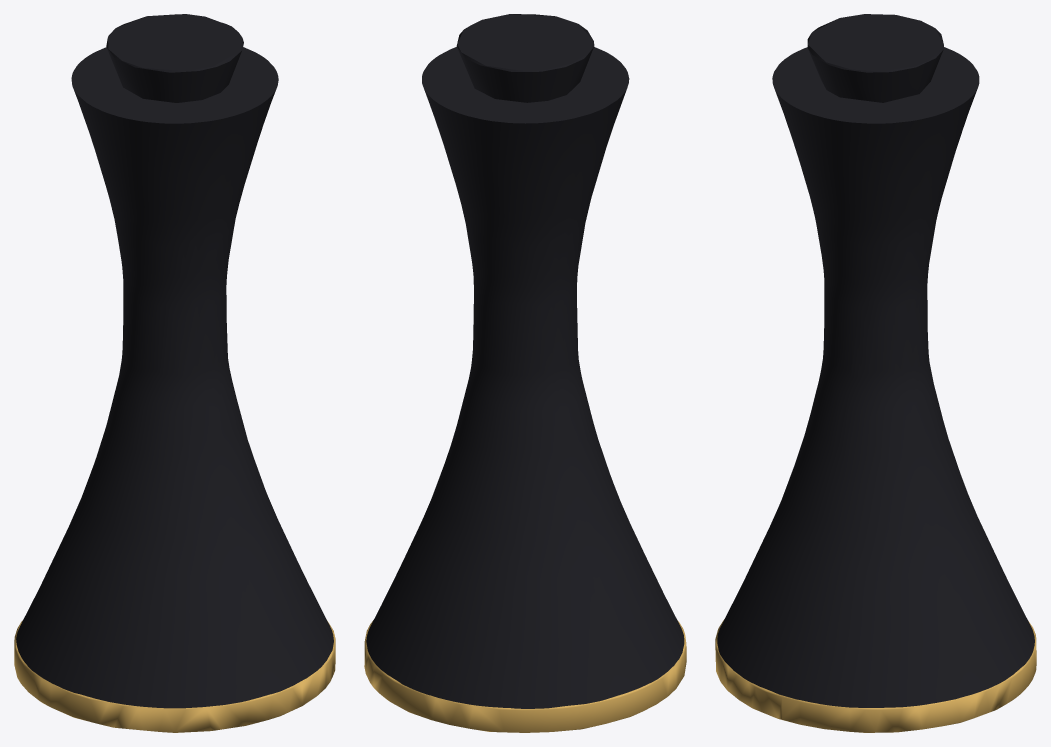
File: 05_dama_cerna.glb
3 renders of one model, left to right at view 1: azimuth 30°, elevation 25°; view 2: azimuth 150°, elevation 25°; view 3: azimuth 270°, elevation 25°, orthographic.
Parts seen in each view (by area): view 1: 05_dama_telo_0, 05_dama_telo_1, 05_dama_podstavec; view 2: 05_dama_telo_0, 05_dama_telo_1, 05_dama_podstavec; view 3: 05_dama_telo_0, 05_dama_telo_1, 05_dama_podstavec.
Part boxes in pixels (bbox=[...]): 05_dama_telo_0: bbox=[16, 47, 333, 708]; 05_dama_telo_1: bbox=[106, 14, 243, 102]; 05_dama_podstavec: bbox=[14, 620, 335, 732]; 05_dama_telo_0: bbox=[366, 47, 684, 708]; 05_dama_telo_1: bbox=[456, 14, 594, 102]; 05_dama_podstavec: bbox=[364, 620, 686, 732]; 05_dama_telo_0: bbox=[717, 47, 1034, 707]; 05_dama_telo_1: bbox=[807, 14, 943, 102]; 05_dama_podstavec: bbox=[715, 619, 1036, 732].
Size of the model in its own units: 0.044 by 0.094 by 0.044.
